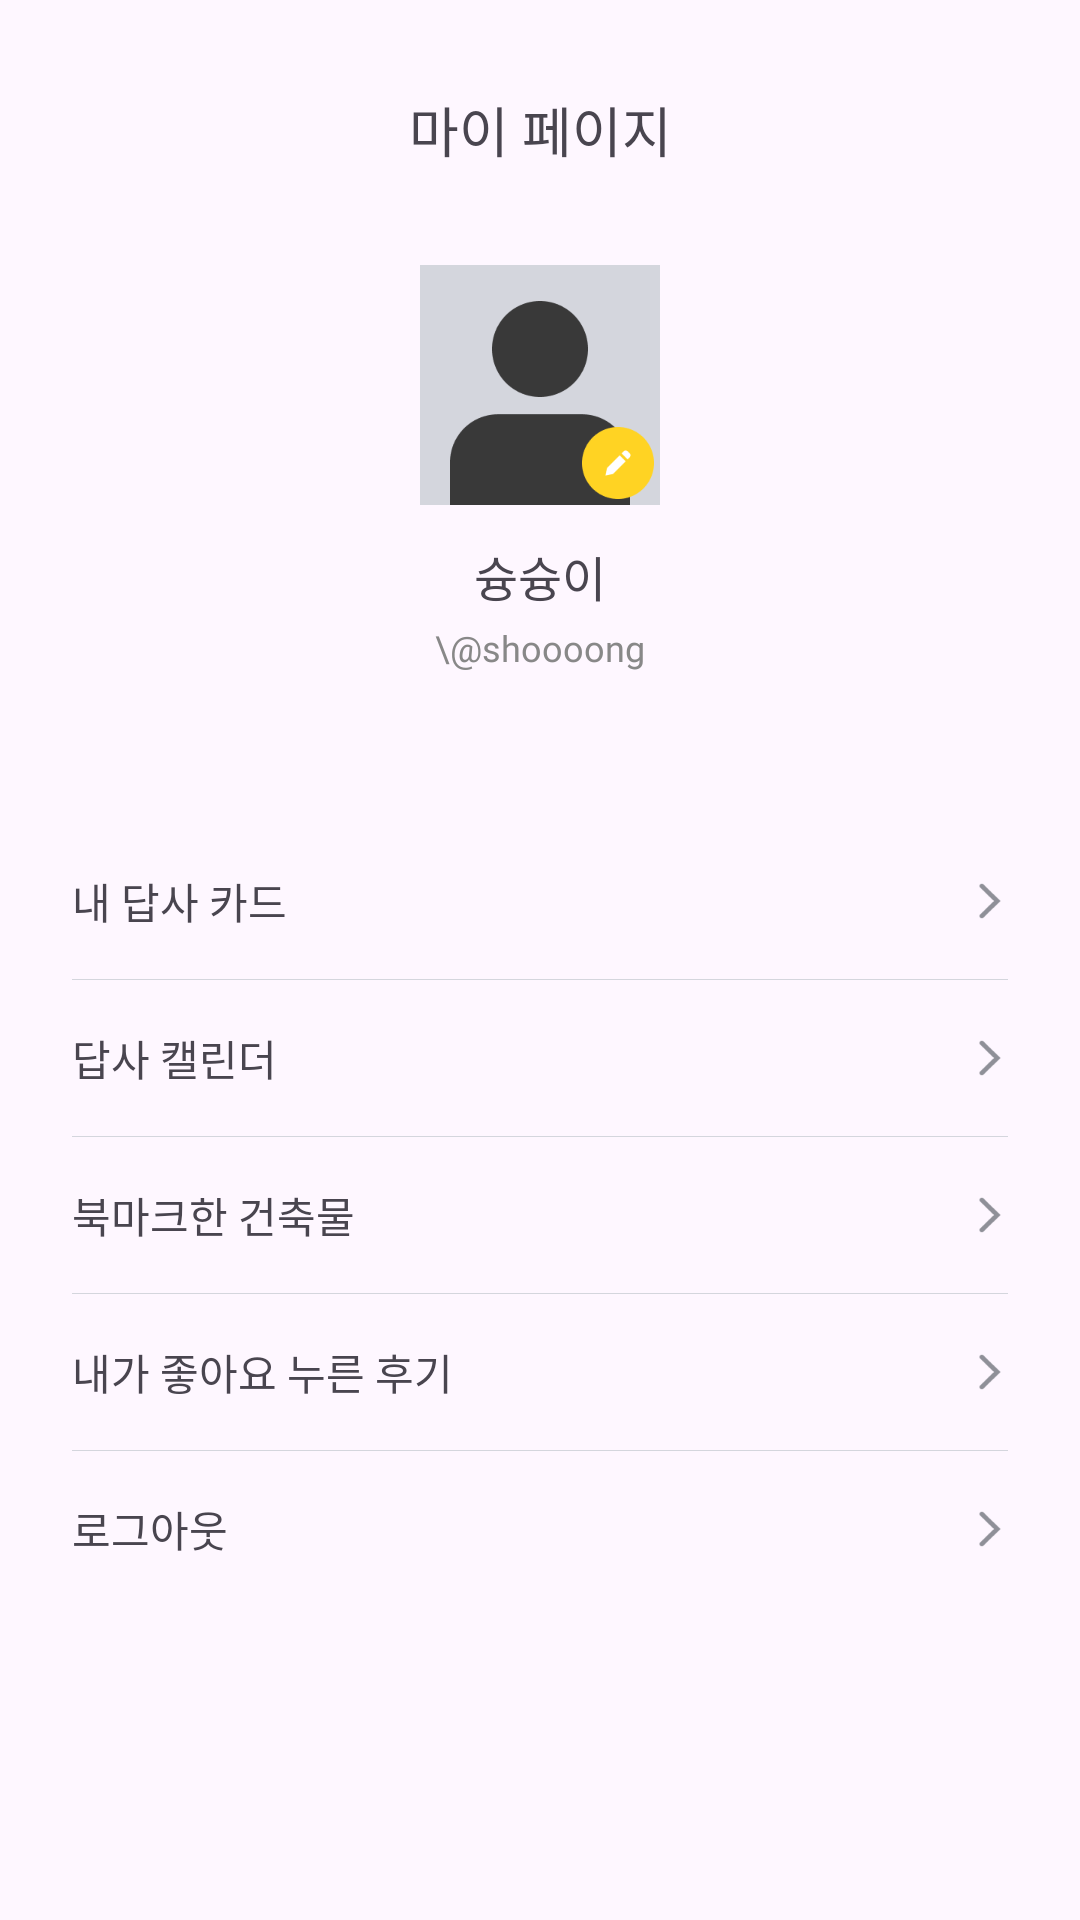

Named icons in this screenshot (1080w x 1920h) and their centers, [x,y]:
edit profile: [618,463]
more: [989,901], [989,1058], [989,1215], [989,1372], [989,1529]
